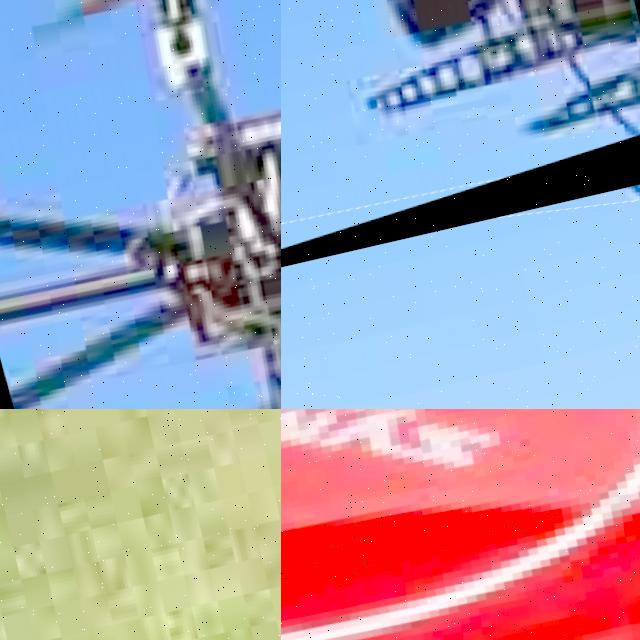drone: (0, 0, 281, 409), (281, 0, 640, 320), (281, 409, 640, 640)
